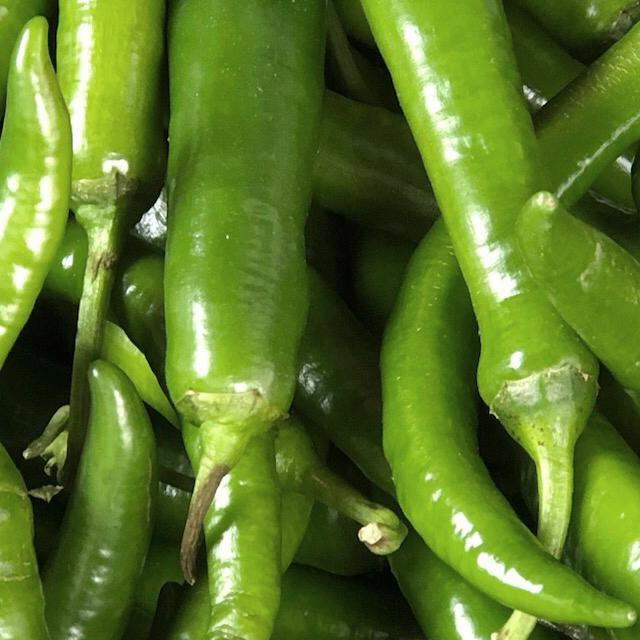chili_pepper: (235, 0, 640, 640)
